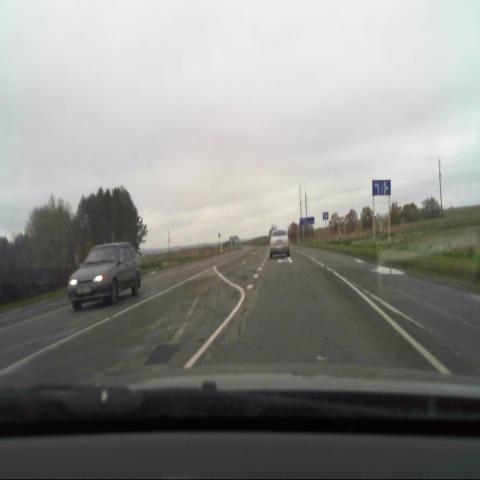5_15_2_2: (372, 178, 391, 196)
